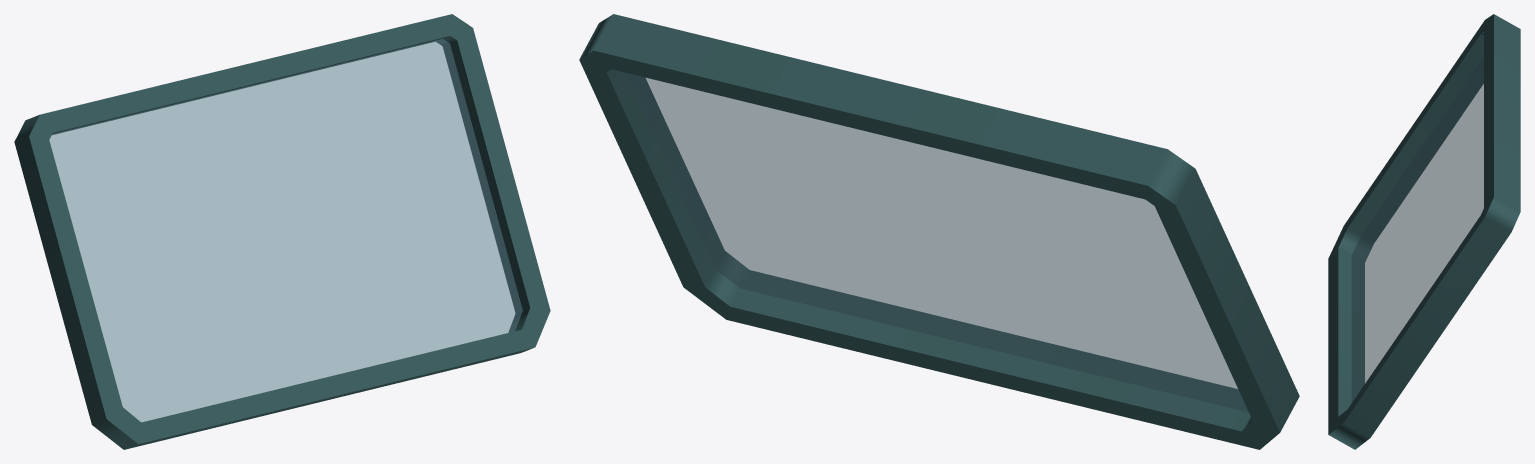
File: Ammo_03.fbx
The picture shows the model from 3 angles, left to right: view 1: azimuth 30°, elevation 25°; view 2: azimuth 150°, elevation 25°; view 3: azimuth 270°, elevation 25°; orthographic projection. The views are drawn at different scales.
Parts seen in each view (by area): view 1: Ammo_03; view 2: Ammo_03; view 3: Ammo_03.
Boxes of the visible parts, x1,y1,x2,y2 form: Ammo_03: (14,14,550,449); Ammo_03: (579,14,1299,449); Ammo_03: (1328,14,1520,449).
Size of the model in its own units: 15.23 by 9.22 by 6.27.
